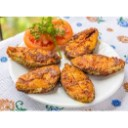seerfish: (12, 65, 60, 96), (62, 63, 95, 102), (4, 45, 60, 67), (72, 54, 125, 76), (66, 27, 100, 54)
